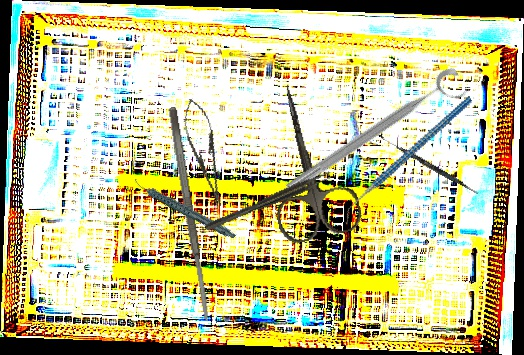Chopper: (318, 95, 498, 226)
Fixation Ring: (281, 64, 472, 209)
Handpiece: (132, 159, 237, 258)
Iris Scissors: (248, 75, 365, 247)
Needle Holder: (177, 95, 232, 210)
Spatula Surgical: (167, 106, 212, 323), (377, 134, 481, 196)
Tissue Forceps: (202, 169, 335, 232)
